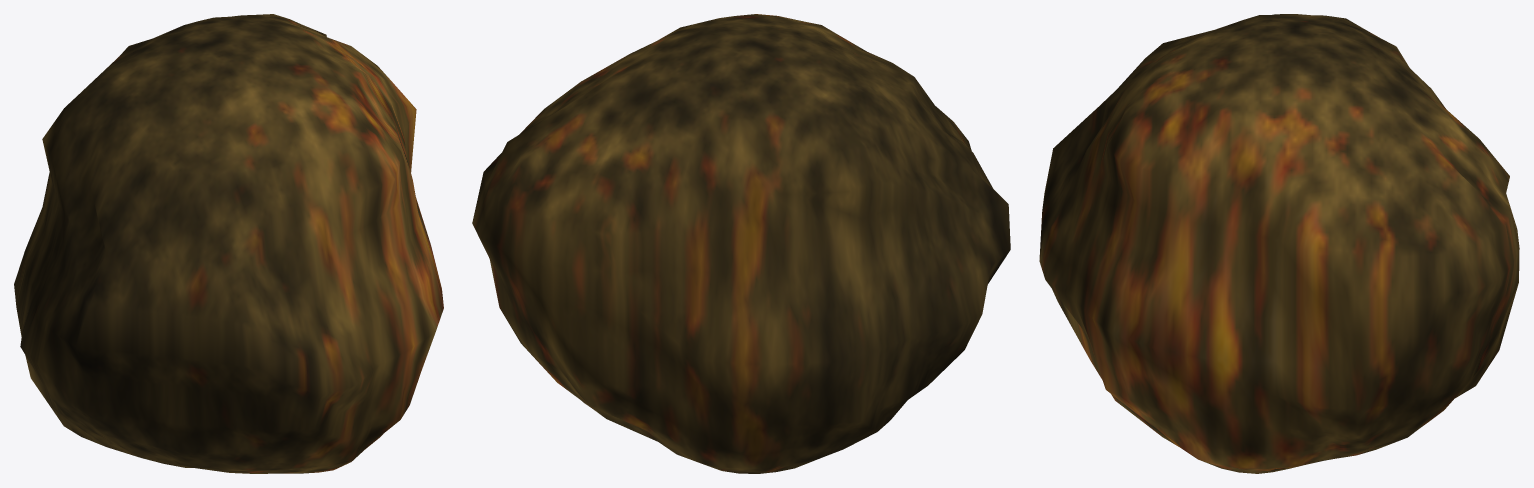
File: ooiwa2.FBX
3 renders of one model, left to right at view 1: azimuth 30°, elevation 25°; view 2: azimuth 150°, elevation 25°; view 3: azimuth 270°, elevation 25°, orthographic. The views are drawn at different scales.
Visible parts, largest first — view 1: Sphere001; view 2: Sphere001; view 3: Sphere001.
Boxes of the visible parts, left/top/right/bottom form: Sphere001: left=14, top=14, right=443, bottom=473; Sphere001: left=472, top=14, right=1010, bottom=473; Sphere001: left=1039, top=14, right=1519, bottom=473.
Bounding box in the file's own units: 60.49 × 57.2 × 60.49.
